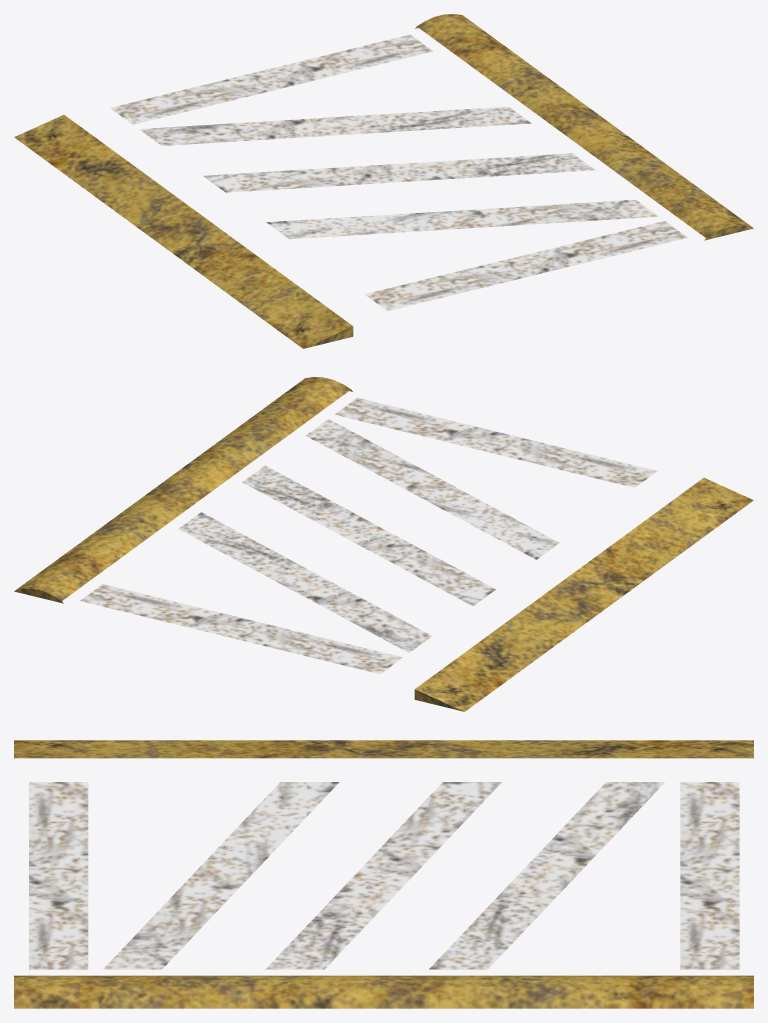
Rendered from 5w_curbenter.fbx.
3 views of the same model, one above another, from view 1: azimuth 30°, elevation 25°; view 2: azimuth 150°, elevation 25°; view 3: azimuth 270°, elevation 25° (orthographic). The views are drawn at different scales.
Parts seen in each view (by area): view 1: mesh_0, mesh_1; view 2: mesh_0, mesh_1; view 3: mesh_0, mesh_1.
Part boxes in pixels (x1,y1,x2,y2): mesh_0: (110,34,687,310); mesh_1: (14,14,753,348); mesh_0: (80,397,657,673); mesh_1: (14,377,753,711); mesh_0: (29,782,739,969); mesh_1: (14,740,753,1008).
Bounding box in the file's own units: 450 × 17 × 500.
Materials: 2 (2 with a texture image).
